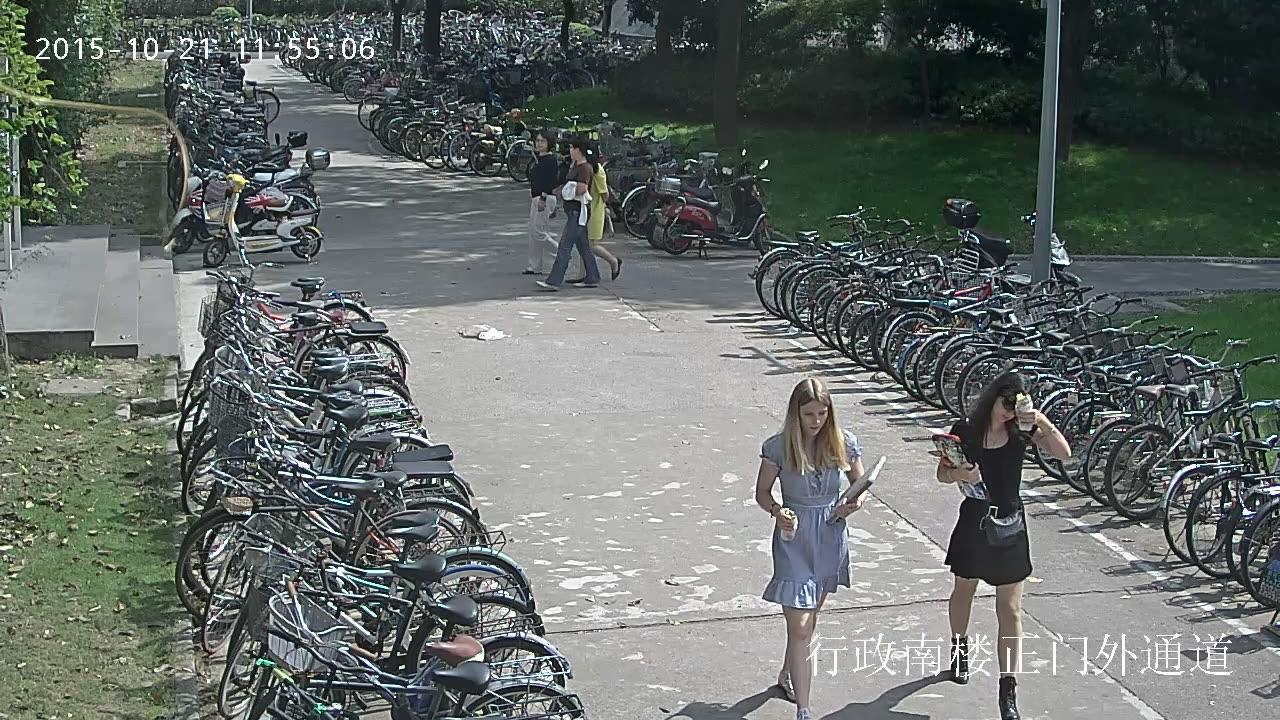person: (930, 371, 1072, 720), (754, 377, 884, 720), (534, 134, 601, 288), (566, 142, 621, 283), (519, 130, 560, 276)
